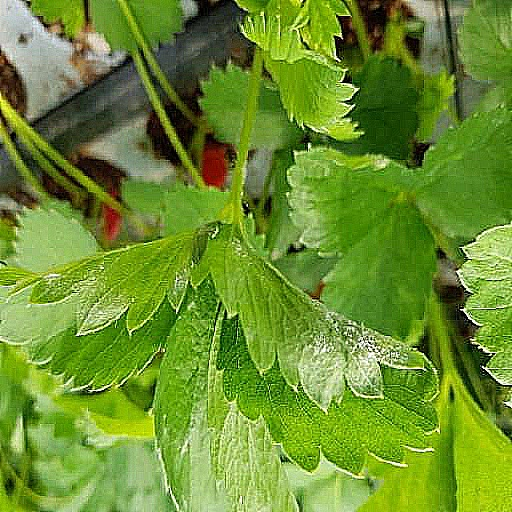Powdery Mildew Leaf: (70, 34, 325, 295), (304, 120, 511, 286)
